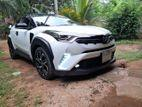car: (7, 13, 118, 80)
